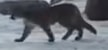Mountain Lion: (9, 4, 102, 46)
